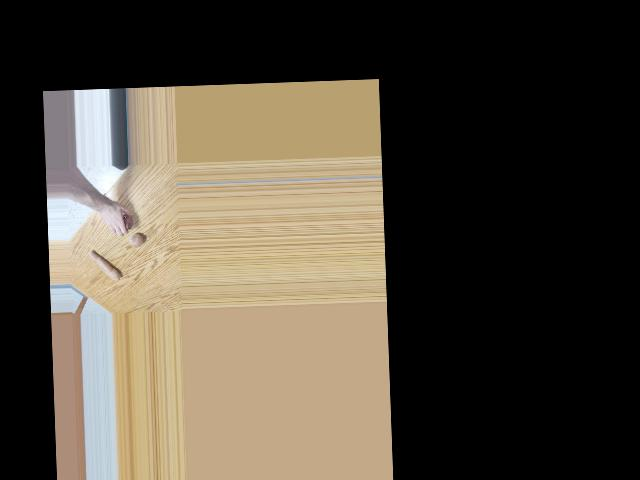onion: (117, 215, 132, 230)
